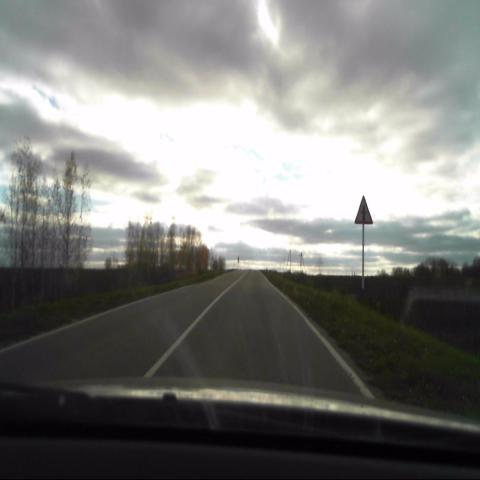2_3: (353, 195, 373, 224)
